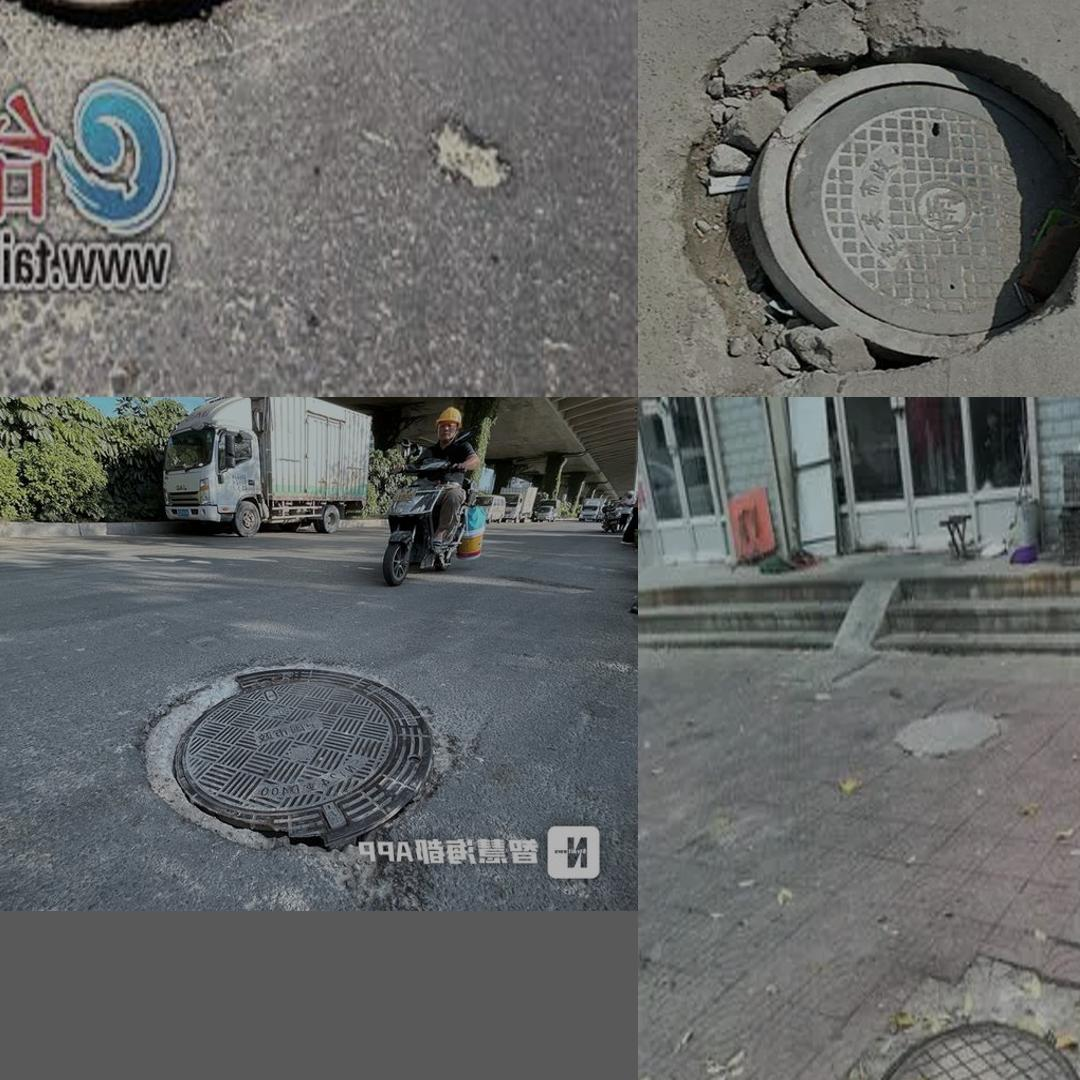circle: (689, 0, 1080, 367), (95, 637, 488, 872), (0, 0, 466, 89), (779, 953, 1080, 1080)
